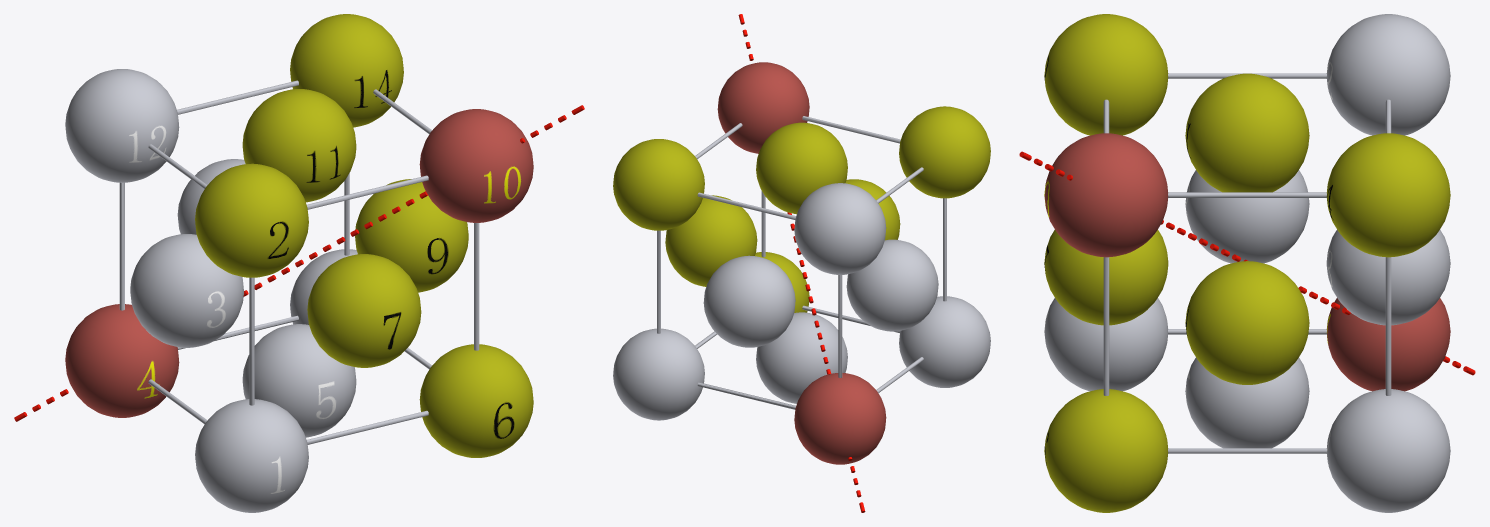
The model's file is jiushi.FBX.
The picture shows the model from 3 angles, left to right: view 1: azimuth 30°, elevation 25°; view 2: azimuth 150°, elevation 25°; view 3: azimuth 270°, elevation 25°; orthographic projection. The views are drawn at different scales.
Parts seen in each view (by area): view 1: A027, A021, A011, A023, A022, A025, A026, A024, A031, A030, A028, A032 (+4 smaller); view 2: A025, A033, A024, A030, A029, A021, A026, A011, A031, A023, A032, A028 (+4 smaller); view 3: A032, A030, A022, A029, A023, A031, A021, A025, A028, A027, A033, A011 (+4 smaller).
Part boxes in pixels (box(x1,y1,x2,y2)): A027: box(307, 254, 421, 367); A021: box(195, 163, 308, 277); A011: box(195, 399, 308, 512); A023: box(419, 109, 533, 222); A022: box(419, 344, 533, 457); A025: box(65, 69, 179, 182); A026: box(130, 234, 243, 347); A024: box(65, 304, 179, 417); A031: box(242, 89, 356, 202); A030: box(290, 14, 403, 127); A028: box(242, 324, 356, 437); A032: box(355, 179, 468, 292); A025: box(794, 183, 886, 274); A033: box(703, 255, 795, 347); A024: box(794, 373, 886, 464); A030: box(613, 139, 704, 230); A029: box(613, 328, 704, 420); A021: box(899, 106, 990, 198); A026: box(846, 239, 938, 331); A011: box(899, 296, 990, 387); A031: box(756, 122, 847, 214); A023: box(717, 62, 809, 153); A032: box(665, 195, 757, 286); A028: box(756, 312, 847, 403); A032: box(1185, 261, 1309, 384); A030: box(1326, 133, 1450, 257); A022: box(1044, 389, 1168, 512); A029: box(1326, 389, 1450, 512); A023: box(1044, 133, 1168, 257); A031: box(1185, 73, 1309, 192); A021: box(1044, 14, 1168, 135); A025: box(1326, 14, 1450, 135); A028: box(1185, 357, 1309, 448); A027: box(1044, 229, 1168, 325); A033: box(1326, 229, 1450, 325); A011: box(1044, 298, 1168, 391).
Bounding box in the file's own units: 80.82 × 80.82 × 80.82.
